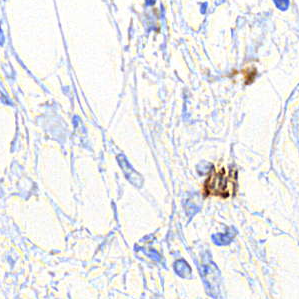Lymphocyte: (203, 165, 237, 199)
